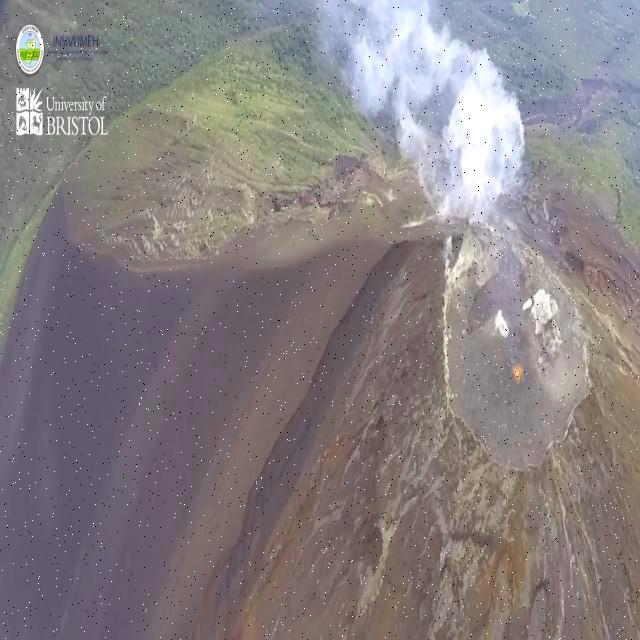Plume: (294, 0, 532, 217)
Summit: (416, 222, 607, 503)
